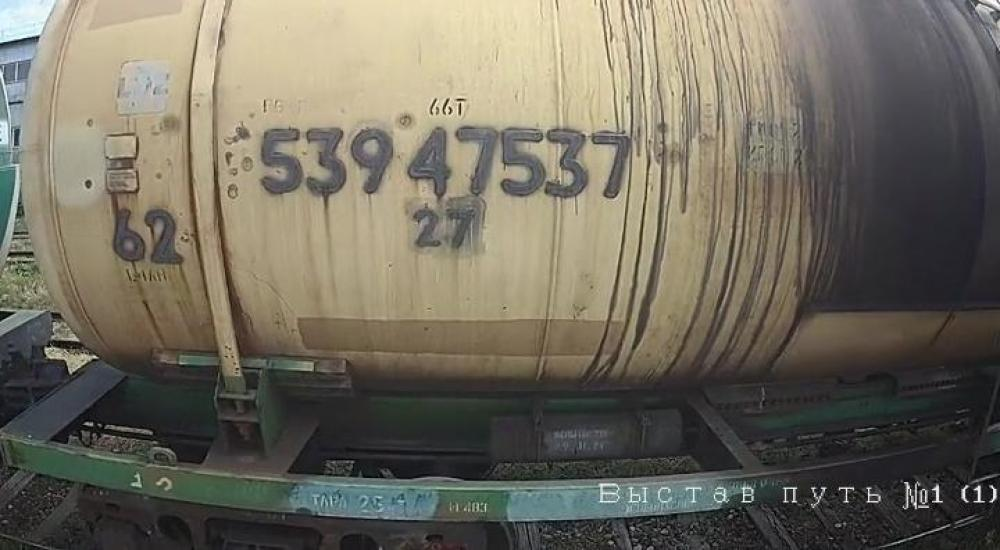Wagon-number: (255, 122, 633, 200)
